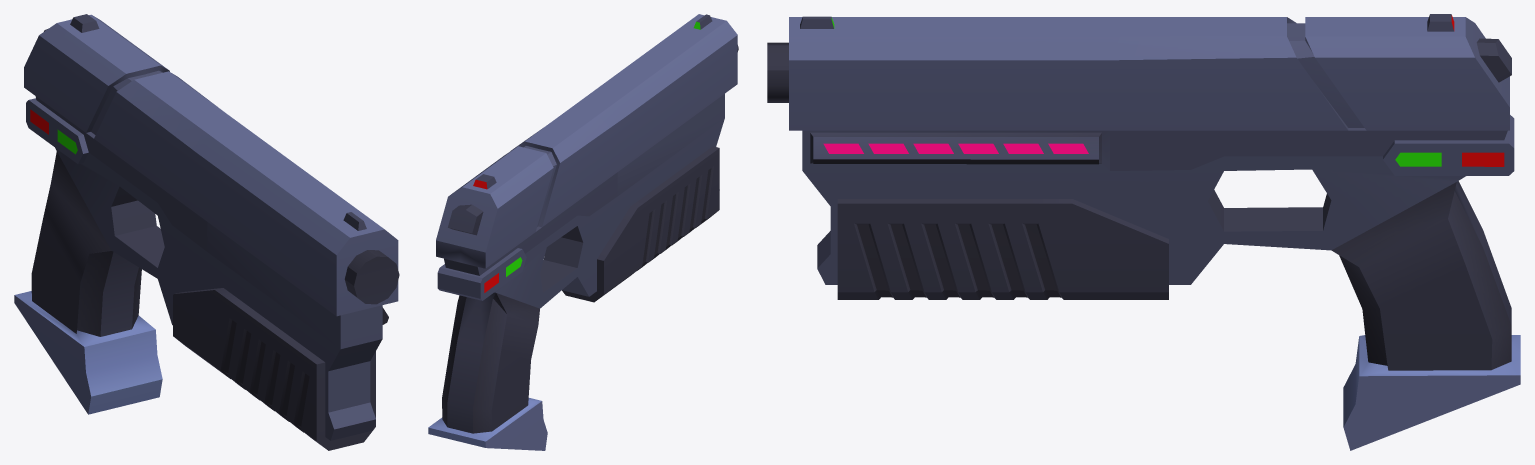
File: w_handgun.FBX
3 views of the same model, side by side, from view 1: azimuth 30°, elevation 25°; view 2: azimuth 150°, elevation 25°; view 3: azimuth 270°, elevation 25° (orthographic). The views are drawn at different scales.
Parts seen in each view (by area): view 1: Box004; view 2: Box004; view 3: Box004.
Boxes of the visible parts, bbox=[...] form: Box004: bbox=[14, 14, 399, 450]; Box004: bbox=[428, 14, 738, 450]; Box004: bbox=[767, 14, 1520, 450].
Size of the model in its own units: 5.95 by 28.48 by 47.08.
